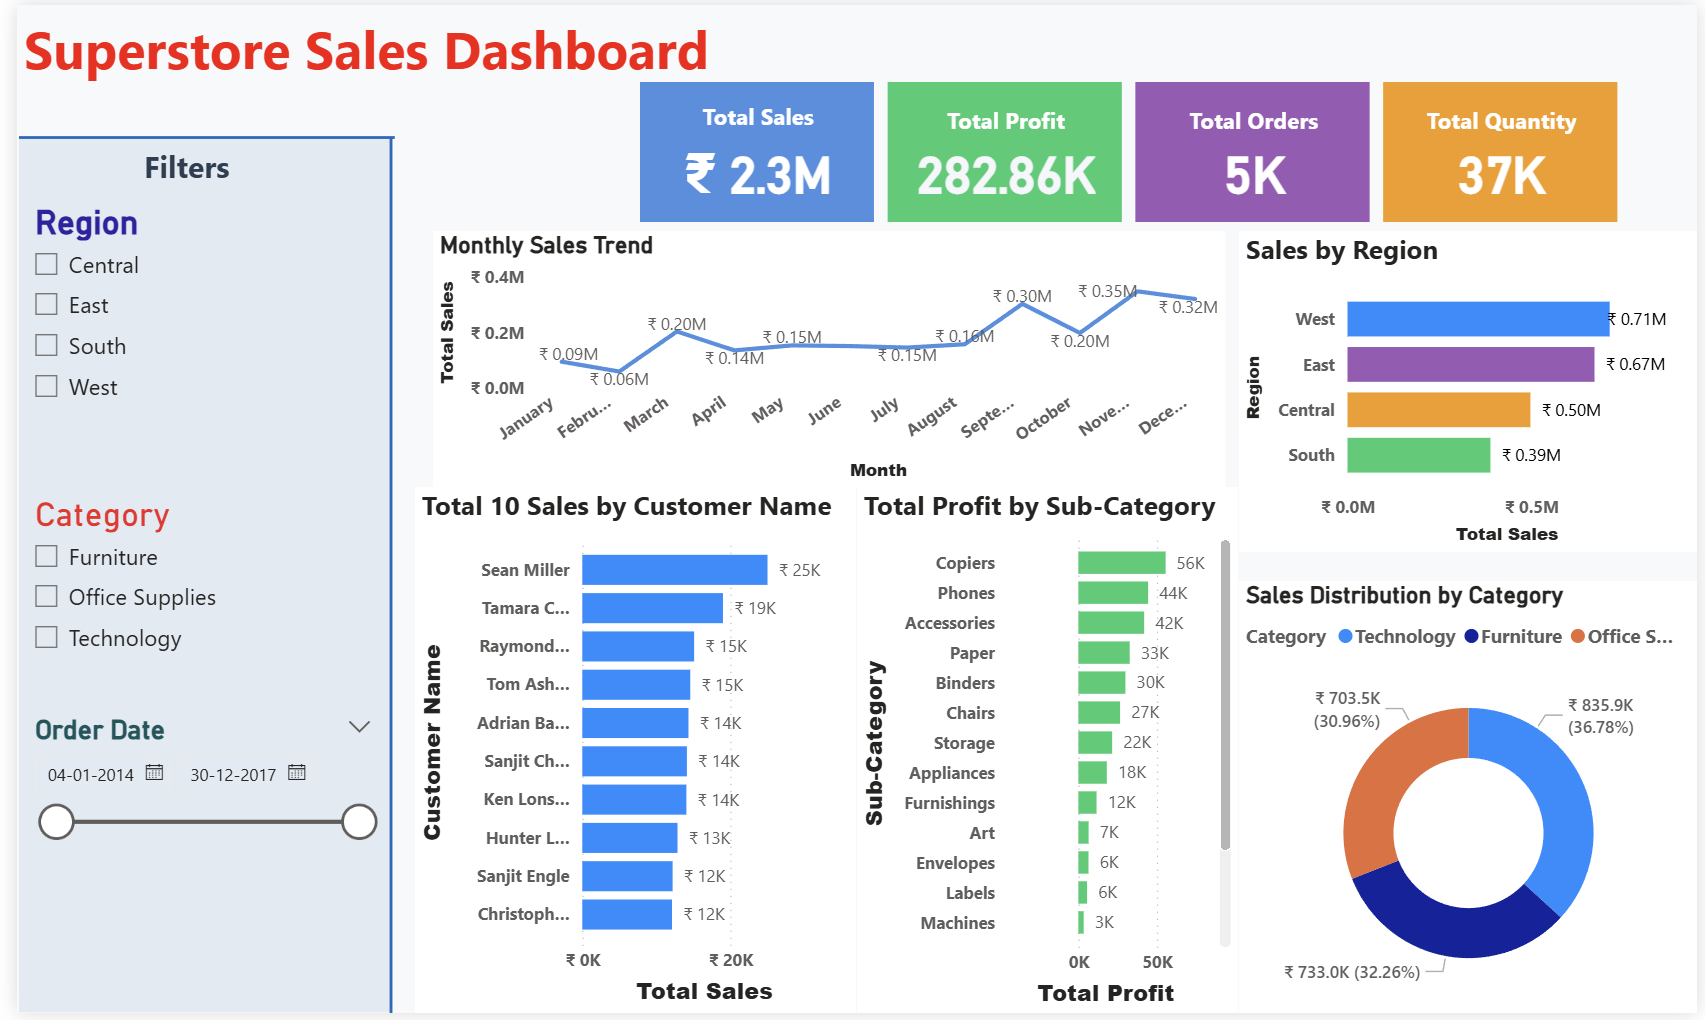

What the dashboard file says about the page in this screenshot:
{"tool":"powerbi","page":{"name":"Page 1","canvas":[1200,720],"ordinal":0},"visuals":[{"type":"shape","box":[1.3,94.9,267.1,625.3],"z":0},{"type":"cardVisual","fields":{"Data":["superstore.Total Sales","superstore.Total Profit","superstore.Total Orders","superstore.Total Quantity"]},"box":[439.8,50,710.2,110.2],"z":1000},{"type":"lineChart","title":"Monthly Sales Trend","fields":{"Category":["superstore.Order Date.Variation.Date Hierarchy.Year","superstore.Order Date.Variation.Date Hierarchy.Quarter","superstore.Order Date.Variation.Date Hierarchy.Month","superstore.Order Date.Variation.Date Hierarchy.Day"],"Y":["superstore.Total Sales"]},"box":[297.5,160.8,565.8,183.5],"z":2000},{"type":"clusteredBarChart","title":"Sales by Region","fields":{"Category":["superstore.Region"],"Y":["superstore.Total Sales"]},"box":[872.2,160.8,330.4,229.1],"z":3000},{"type":"donutChart","title":"Sales Distribution by Category","fields":{"Y":["superstore.Total Sales"],"Category":["superstore.Category"]},"box":[872.2,411.4,327.8,311.4],"z":4000},{"type":"clusteredBarChart","title":"Total 10 Sales by Customer Name","fields":{"Category":["superstore.Customer Name"],"Y":["superstore.Total Sales"]},"box":[284.8,344.3,315.2,375.9],"z":5000},{"type":"clusteredBarChart","fields":{"Category":["superstore.Sub-Category"],"Y":["superstore.Total Profit"]},"box":[600,344.3,272.2,377.2],"z":6000},{"type":"slicer","fields":{"Values":["superstore.Category"]},"box":[0,344.3,265.8,165.8],"z":7000},{"type":"slicer","fields":{"Values":["superstore.Region"]},"box":[0,135.4,265.8,208.9],"z":8000},{"type":"slicer","fields":{"Values":["superstore.Order Date"]},"box":[0,501.3,265.8,189.9],"z":9000},{"type":"textbox","box":[0,0,554.5,61.4],"z":10000},{"type":"textbox","box":[86.4,95.5,113.6,51.1],"z":11000},{"type":"shape","box":[117.7,94.9,300,626.6],"z":12000},{"type":"shape","box":[1.3,13.9,268.4,160.8],"z":13000}]}

Visuals, with their boxes in screenshot pixels (x1, y1, x2, y2), scaled from the page's 1200x720 canvas onto the 1705x1020 screenshot:
shape: <box>2,134,381,1019</box>
cardVisual - superstore.Total Sales x superstore.Total Profit: <box>625,71,1634,227</box>
"Monthly Sales Trend" lineChart: <box>423,228,1227,488</box>
"Sales by Region" clusteredBarChart: <box>1239,228,1704,552</box>
"Sales Distribution by Category" donutChart: <box>1239,583,1704,1019</box>
"Total 10 Sales by Customer Name" clusteredBarChart: <box>405,488,852,1019</box>
clusteredBarChart - superstore.Sub-Category x superstore.Total Profit: <box>852,488,1239,1019</box>
slicer - superstore.Category: <box>0,488,378,723</box>
slicer - superstore.Region: <box>0,192,378,488</box>
slicer - superstore.Order Date: <box>0,710,378,979</box>
textbox: <box>0,0,788,87</box>
textbox: <box>123,135,284,208</box>
shape: <box>167,134,593,1019</box>
shape: <box>2,20,383,247</box>
